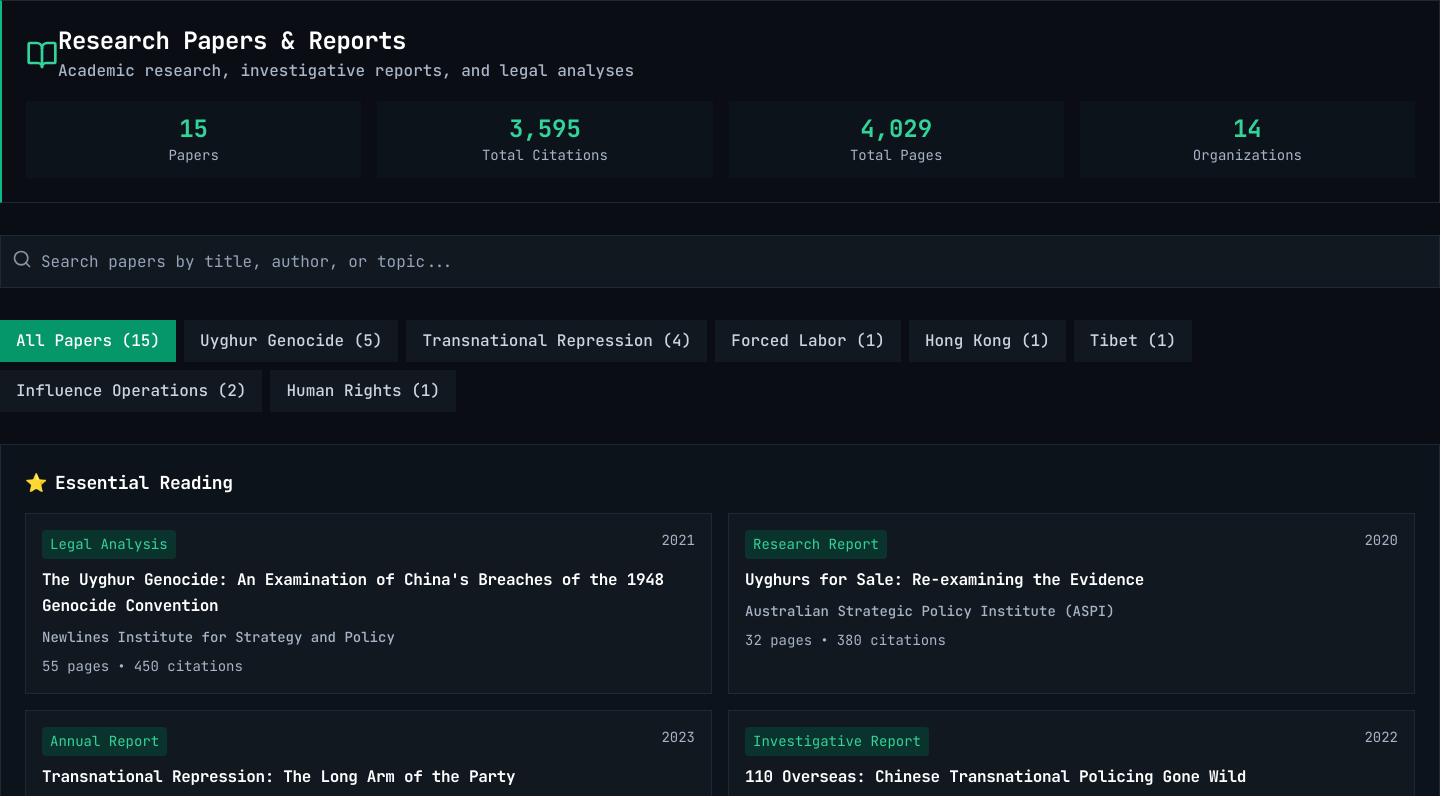
Scenario: ResearchPapers › filters papers by category
Note: Use getByRole to target the filter button specifically
Step 1. Click the button "Hong Kong (1)" → (987, 341), box [909,320,1066,362]
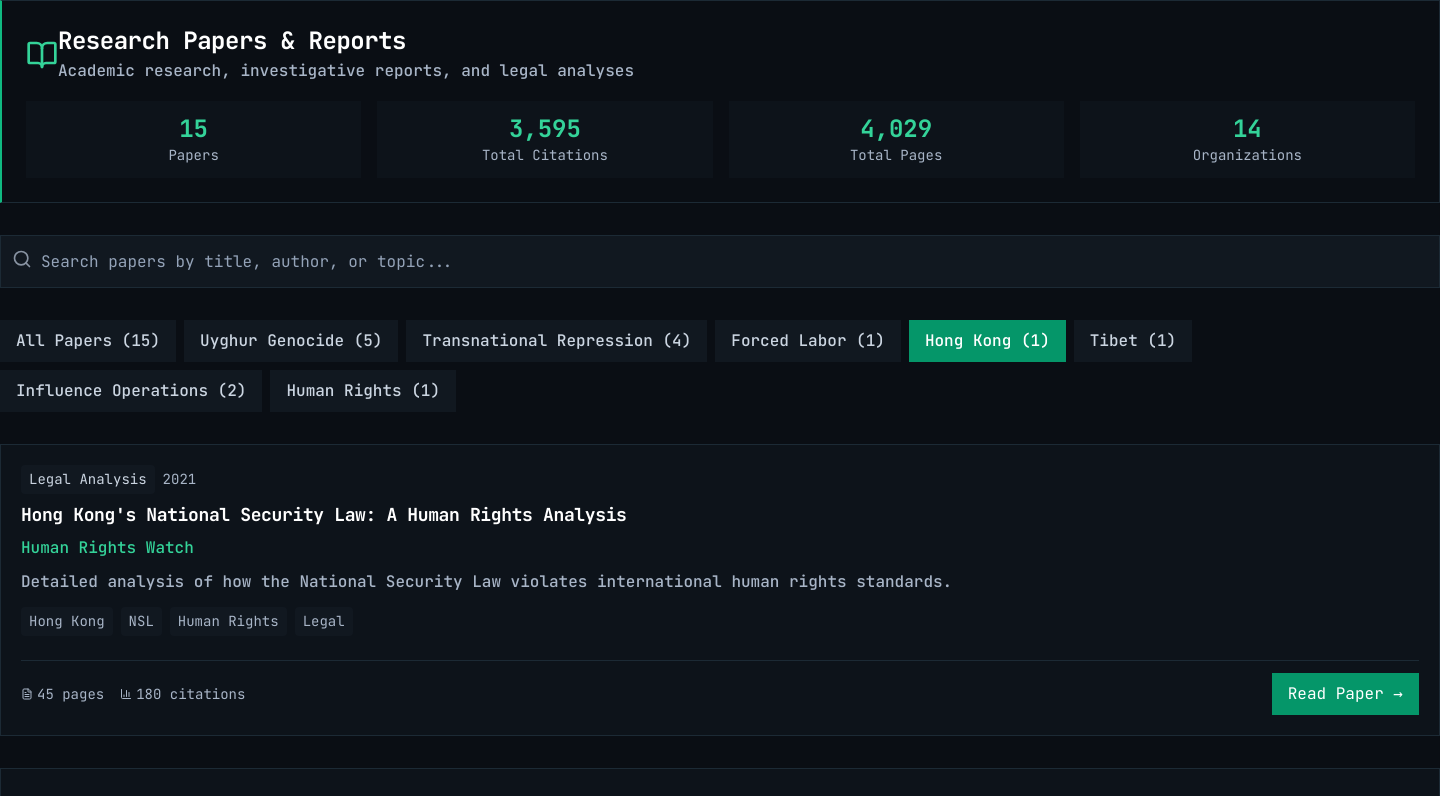
Result: the link "Uyghurs for Sale" is gone
